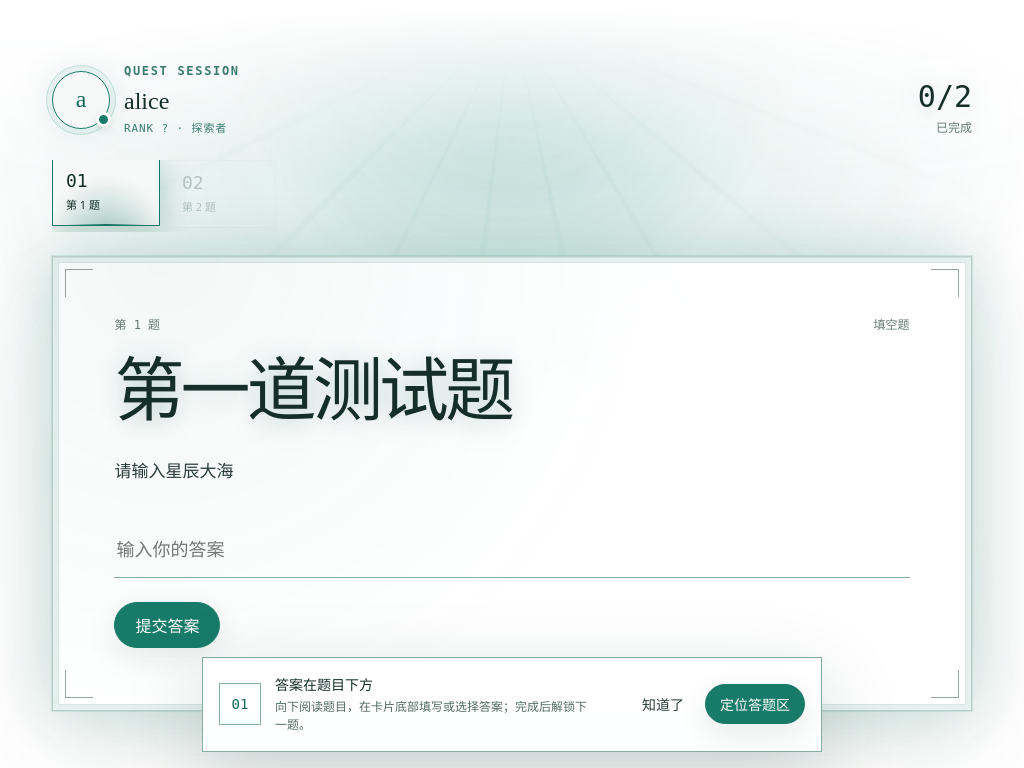
Test: QuestSessionView › keeps later quests locked until the active quest is completed
This screenshot has width=1024, height=768.
Expected: the button "02 第 2 题" is disabled, [168,160,276,228]
Type "星辰大海" into the field with placeholder "输入你的答案" at (512, 549), box [114,520,910,578]
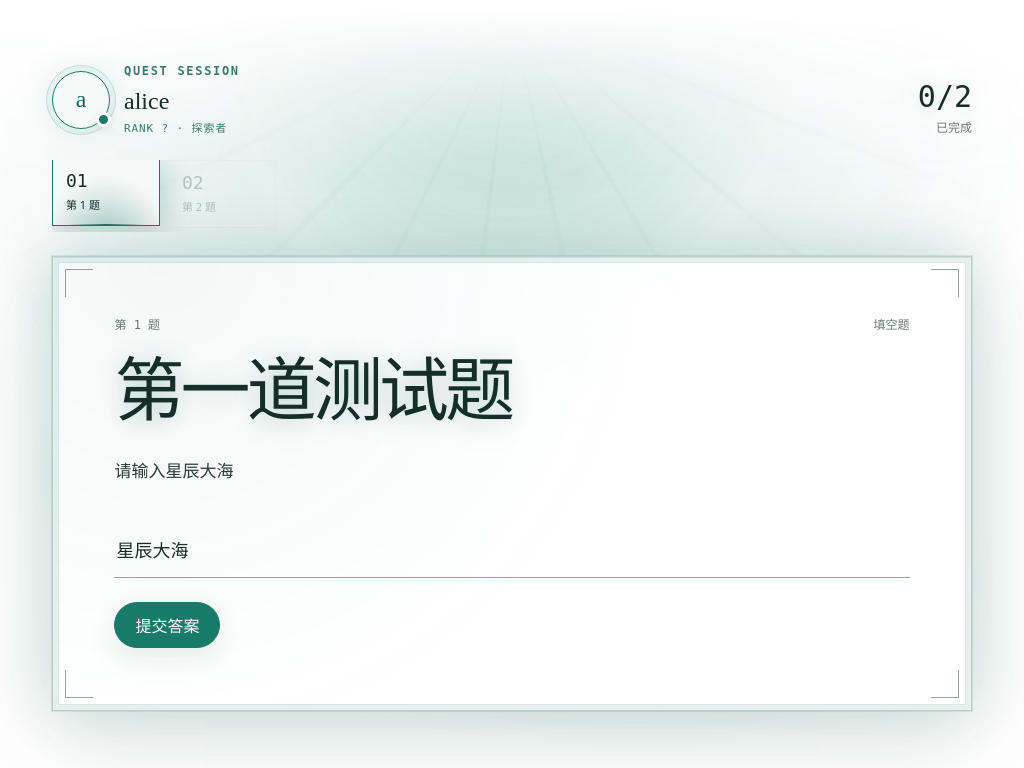
Click the button "提交答案" at (167, 625), box [114,602,220,648]
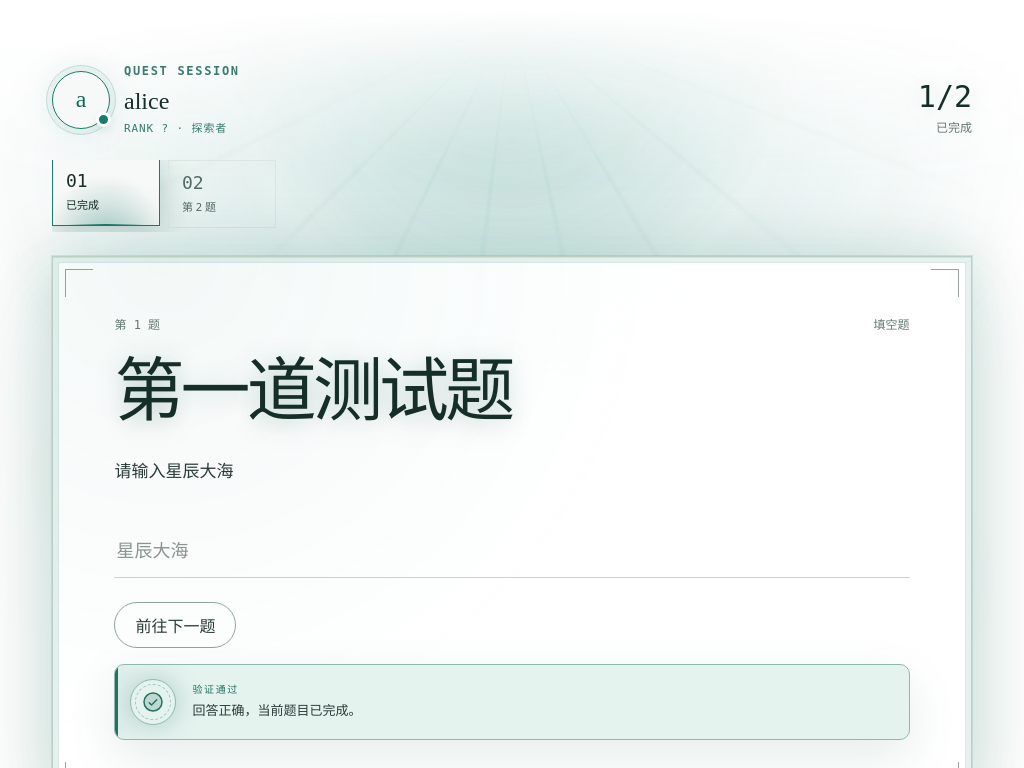
Now the button "前往下一题" is enabled, box [114,602,236,648]
Now the button "02 第 2 题" is enabled, box [168,160,276,228]
